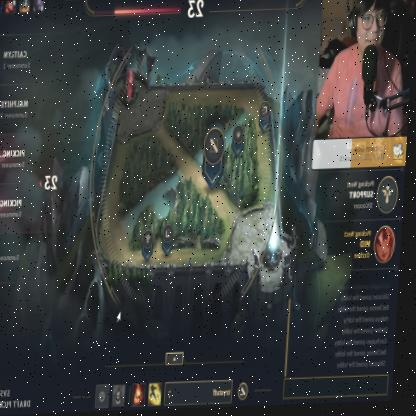streamer: (315, 0, 410, 141)
